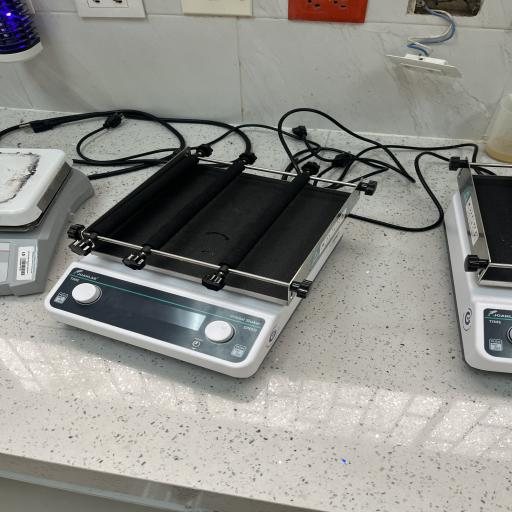Agitador_Orbital_DLAB: (37, 138, 381, 387)
